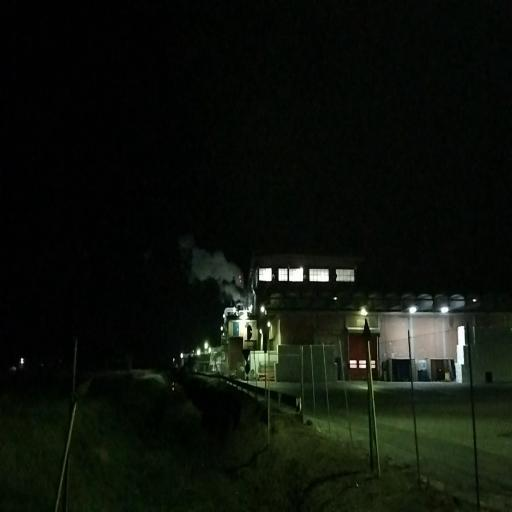leakage: (174, 221, 252, 308)
